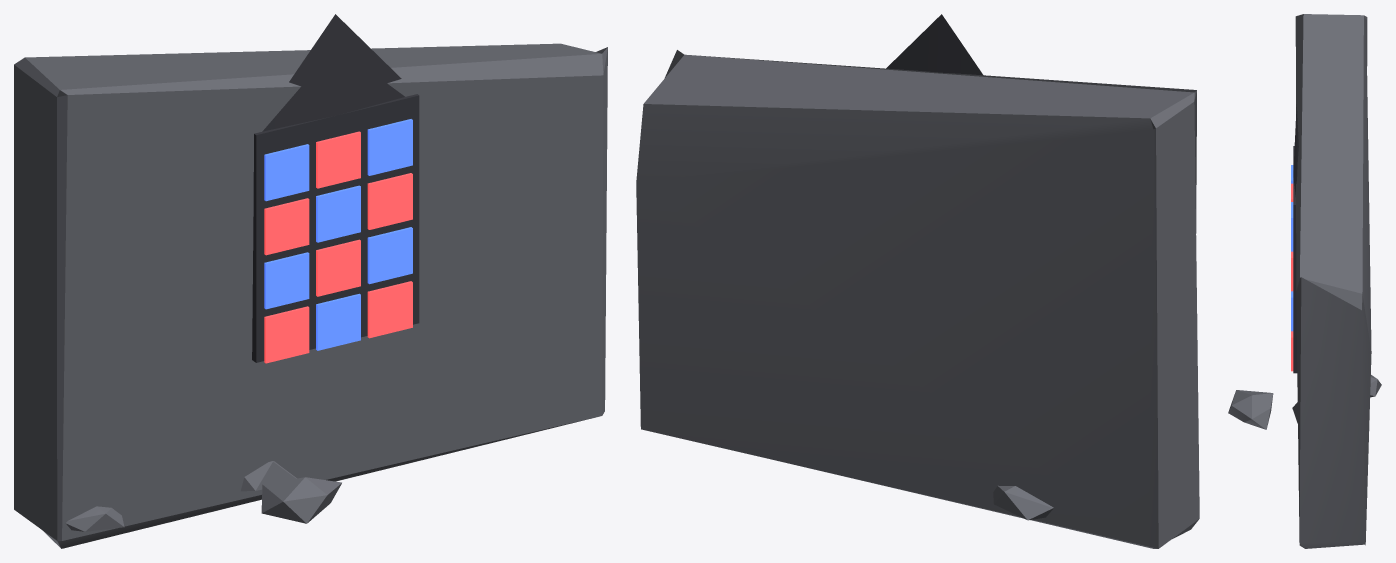
Rendered from CT_ENV_Wall.fbx.
3 renders of one model, left to right at view 1: azimuth 30°, elevation 25°; view 2: azimuth 150°, elevation 25°; view 3: azimuth 270°, elevation 25°, orthographic. The views are drawn at different scales.
Visible parts, largest first — view 1: CT_ENV_Wall; view 2: CT_ENV_Wall; view 3: CT_ENV_Wall.
Boxes of the visible parts, x1=… form: CT_ENV_Wall: x1=14, y1=14, x2=607, y2=548; CT_ENV_Wall: x1=636, y1=14, x2=1199, y2=548; CT_ENV_Wall: x1=1228, y1=14, x2=1381, y2=548.
Bounding box in the file's own units: 4.05 × 3.33 × 1.33.
